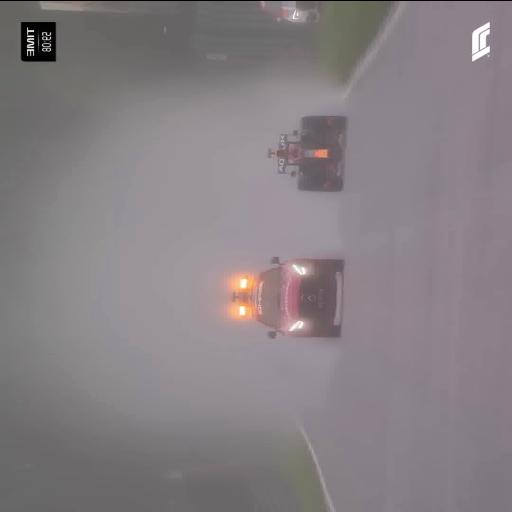f1_car: (267, 115, 345, 190)
